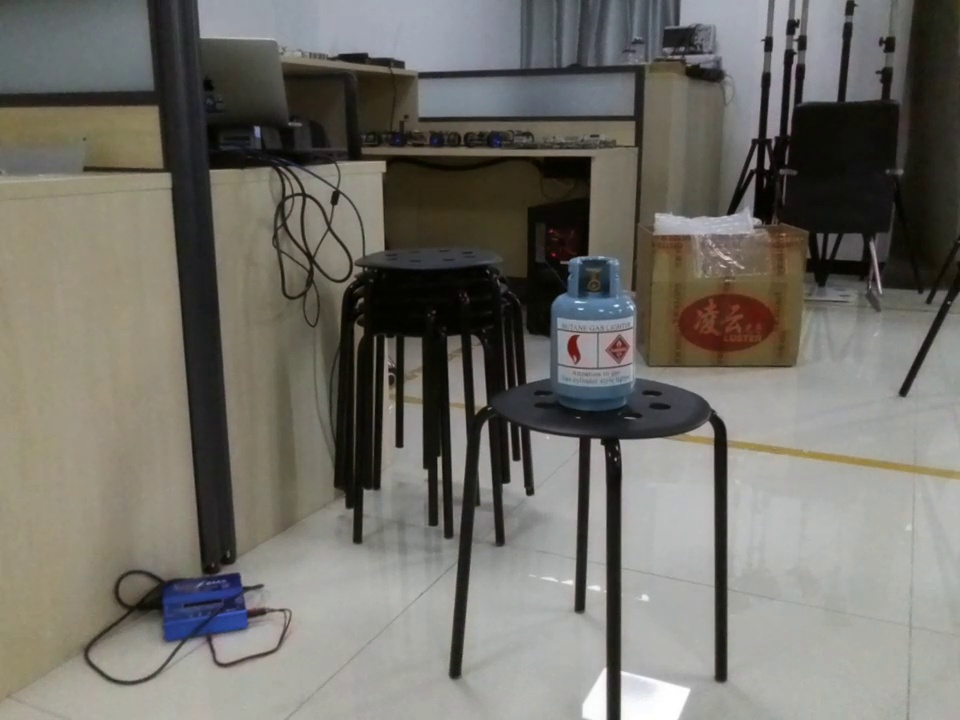gas tank: (545, 251, 644, 414)
